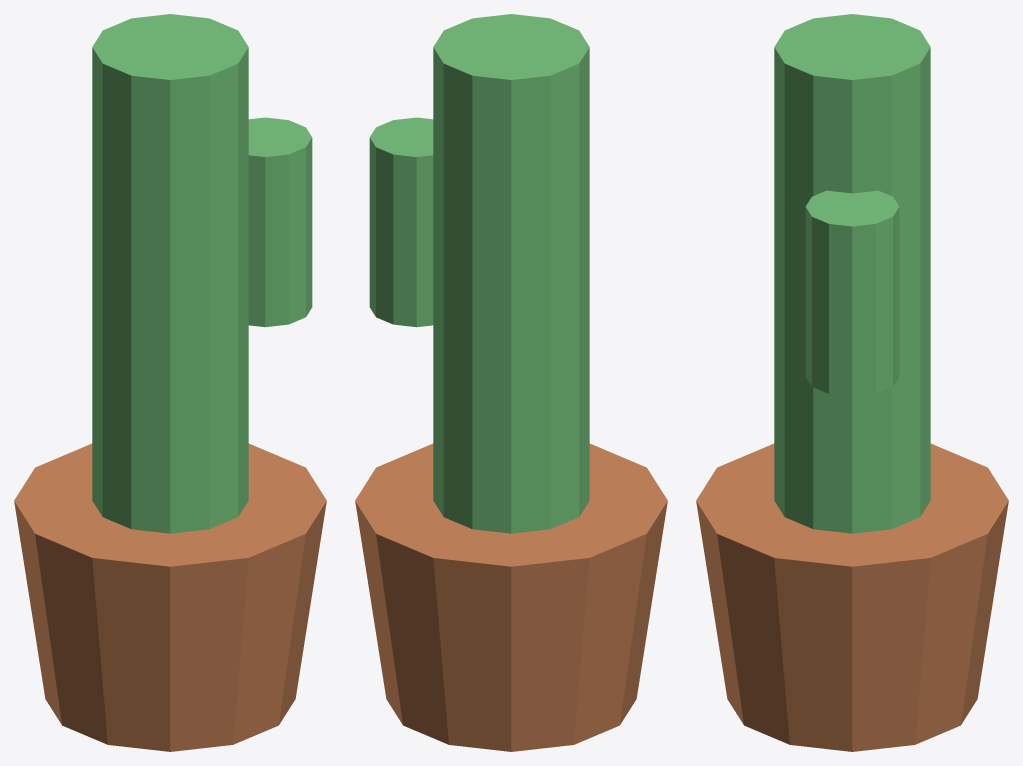
Rendered from sm_product_cactus.glb.
3 renders of one model, left to right at view 1: azimuth 30°, elevation 25°; view 2: azimuth 150°, elevation 25°; view 3: azimuth 270°, elevation 25°, orthographic.
Parts seen in each view (by area): view 1: cactus_1, cactus_0, cactus_2; view 2: cactus_1, cactus_0, cactus_2; view 3: cactus_0, cactus_1, cactus_2.
Boxes of the visible parts, x1,y1,x2,y2 form: cactus_1: [92, 14, 248, 533]; cactus_0: [14, 443, 326, 751]; cactus_2: [248, 117, 312, 327]; cactus_1: [433, 14, 589, 533]; cactus_0: [355, 443, 667, 751]; cactus_2: [369, 117, 433, 327]; cactus_0: [696, 443, 1008, 751]; cactus_1: [774, 14, 930, 533]; cactus_2: [805, 190, 899, 396].
Size of what is drawn, in the model's own units: 0.2 by 0.46 by 0.2.
